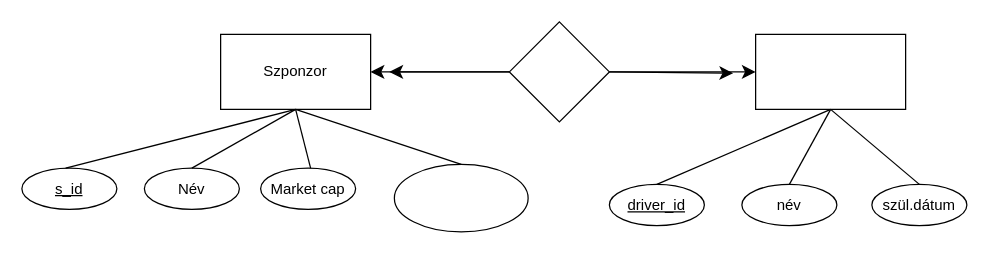
Image size: 989x254. Some labels were removed from this diagram. The box of each missing label's shape, as (x1, y1, x2, y2) in pixels:
F1 Driver: (754, 33, 906, 109)
szerződés lejárati dátuma: (393, 163, 528, 232)
